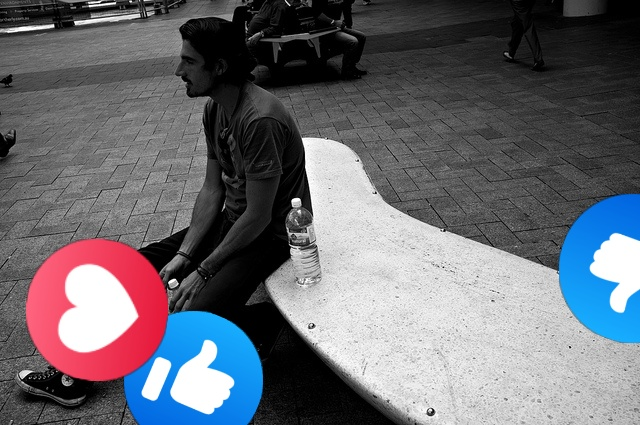like: (124, 311, 263, 425), (559, 194, 640, 343)
love: (26, 239, 168, 381)
